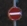No entry: (6, 5, 22, 21)
